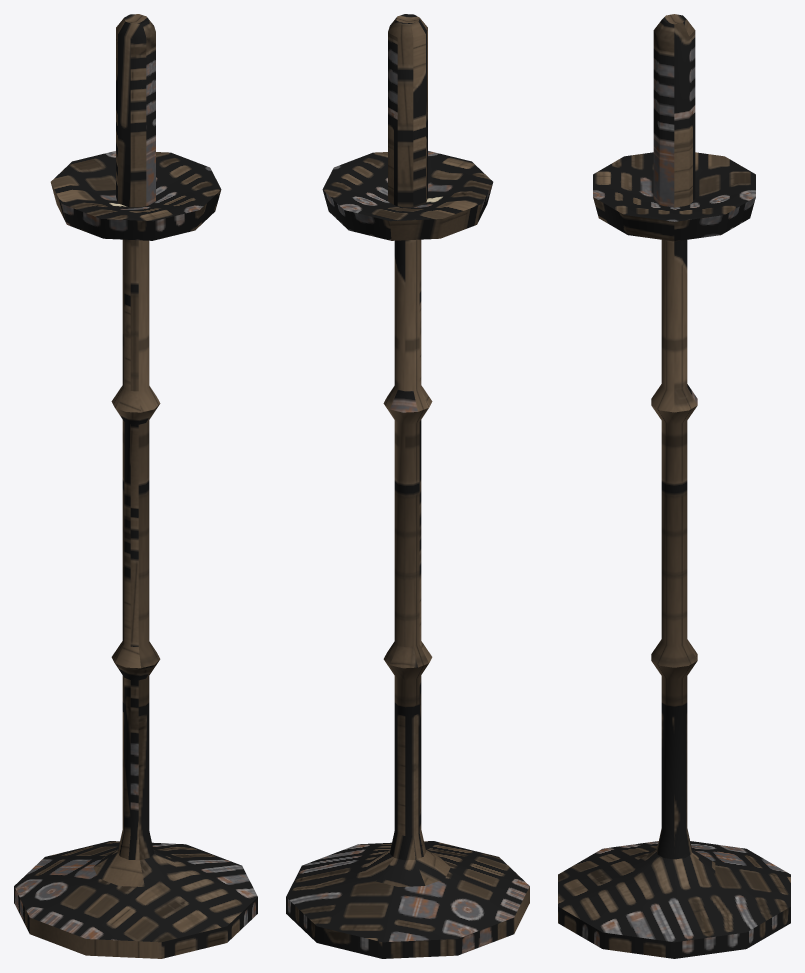
The model's file is cierge.fbx.
3 renders of one model, left to right at view 1: azimuth 30°, elevation 25°; view 2: azimuth 150°, elevation 25°; view 3: azimuth 270°, elevation 25°, orthographic.
Parts seen in each view (by area): view 1: cierge; view 2: cierge; view 3: cierge.
Boxes of the visible parts, x1,y1,x2,y2 form: cierge: (14, 14, 257, 958); cierge: (286, 14, 529, 958); cierge: (558, 14, 790, 958).
Bounding box in the file's own units: 0.4 × 1.6 × 0.3804.
Materials: 1 (1 with a texture image).
